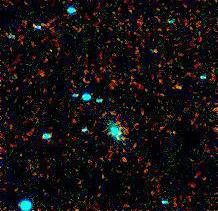star: (167, 71, 197, 101)
